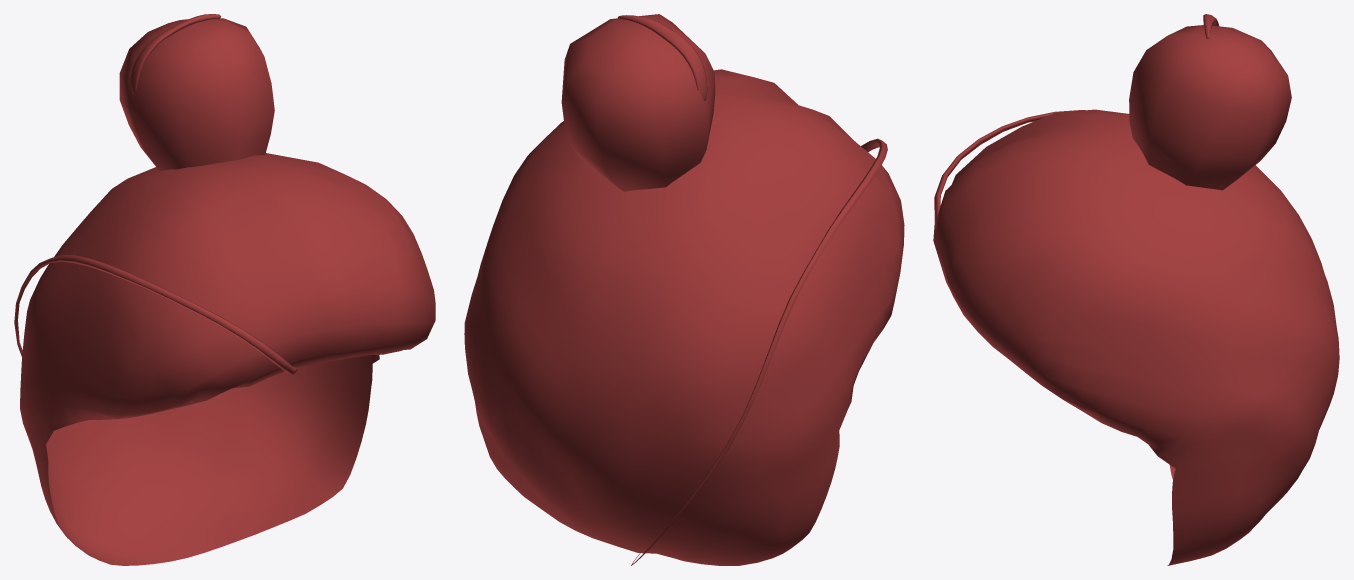
The picture shows the model from 3 angles, left to right: view 1: azimuth 30°, elevation 25°; view 2: azimuth 150°, elevation 25°; view 3: azimuth 270°, elevation 25°; orthographic projection. The views are drawn at different scales.
Parts seen in each view (by area): view 1: _polySurface5, _polySurface7, _polySurface6, _polySurface8; view 2: _polySurface5, _polySurface7, _polySurface6, _polySurface8; view 3: _polySurface5, _polySurface7, _polySurface6.
Boxes of the visible parts, x1,y1,x2,y2 form: _polySurface5: (20,153,435,565); _polySurface7: (119,18,274,170); _polySurface6: (14,255,297,374); _polySurface8: (129,14,221,94); _polySurface5: (464,69,904,565); _polySurface7: (561,14,715,191); _polySurface6: (631,138,887,565); _polySurface8: (617,15,707,100); _polySurface5: (933,109,1339,565); _polySurface7: (1129,25,1291,190); _polySurface6: (934,110,1085,223).
Size of the model in its own units: 0.9015 by 1.31 by 0.9309.
